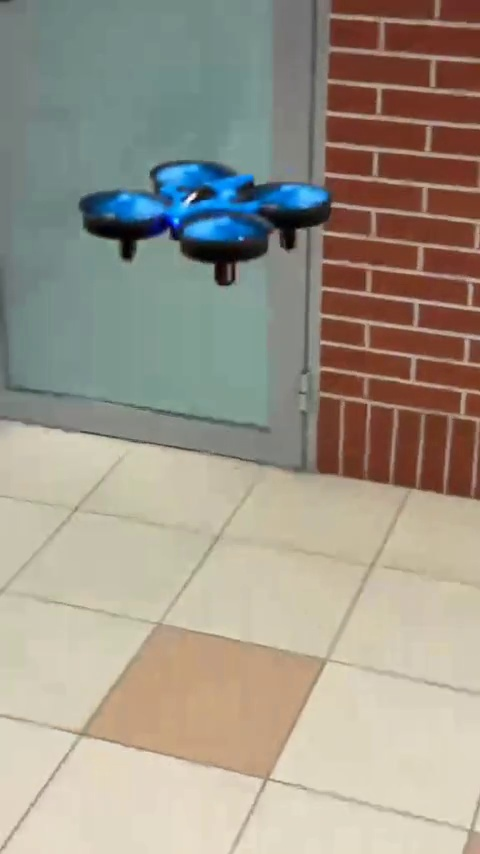drone: (77, 154, 334, 292)
